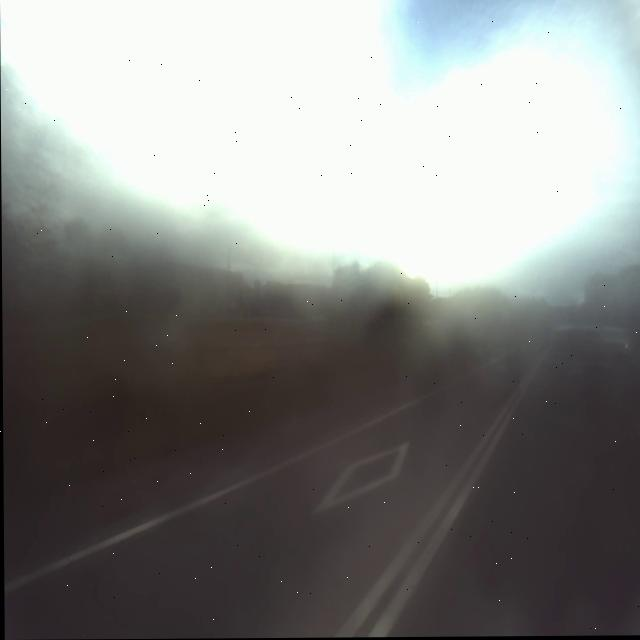trafficLight-Red: (537, 317, 620, 426)
